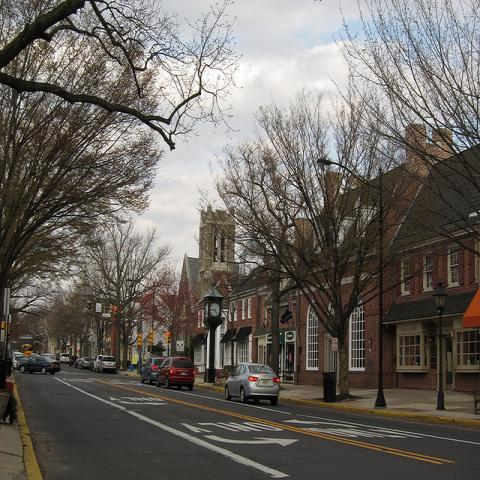car: (224, 363, 280, 405), (156, 356, 196, 390), (17, 356, 60, 375), (140, 357, 166, 385), (99, 356, 116, 374), (12, 355, 29, 371), (81, 357, 92, 370), (59, 352, 70, 364), (96, 354, 103, 372), (68, 355, 78, 367), (75, 358, 84, 369), (92, 356, 97, 372)
